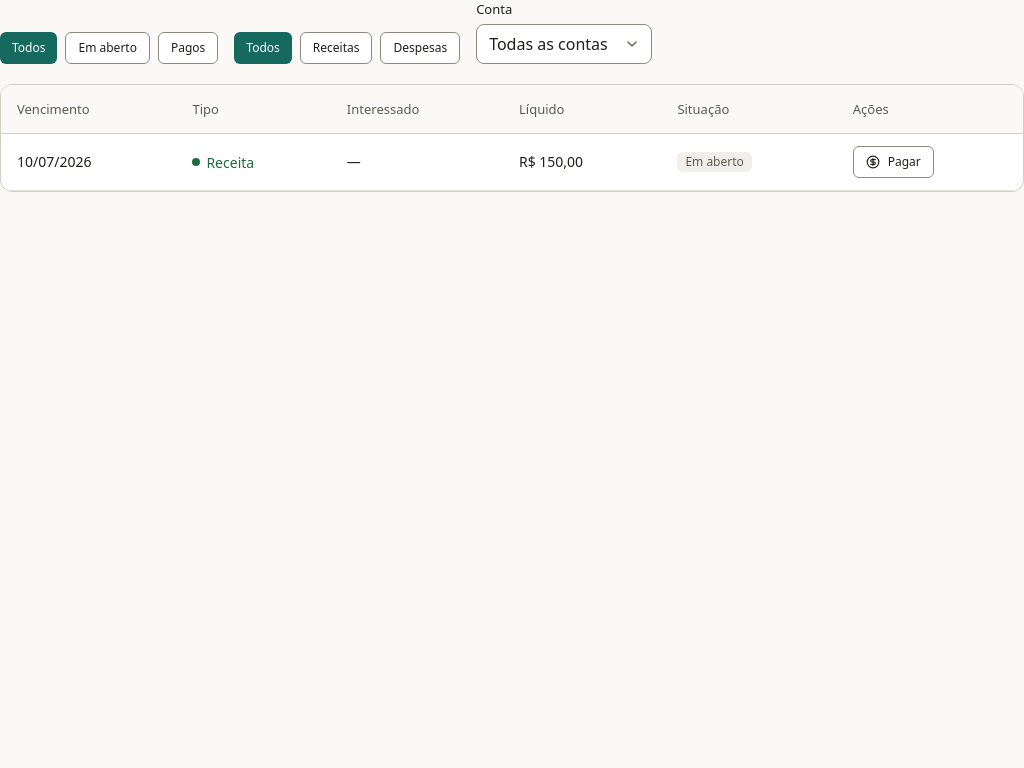
Scenario: Lançamento em período fechado — o dinheiro enviado não se reescreve › deve mostrar a recusa `ciclo_fechado` DENTRO do diálogo de baixa
Click the button "Pagar". click: coordinates (893, 162)
box: [853,146,934,178]
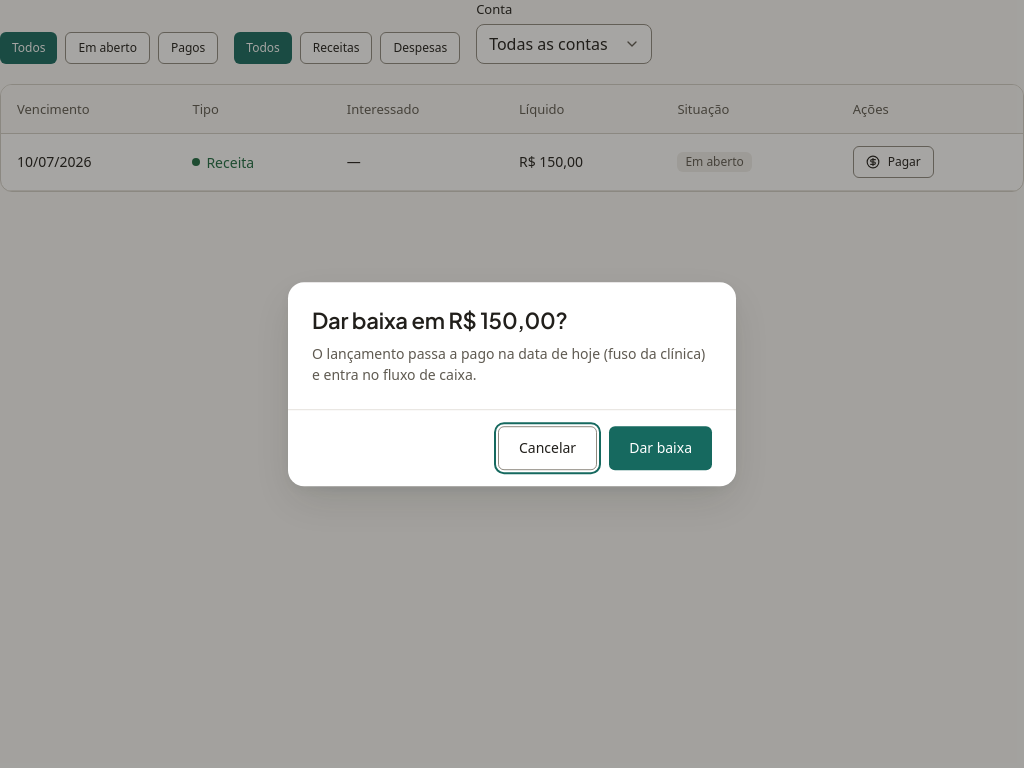
Click the button "Dar baixa". click: coordinates (661, 448)
box: [609,426,712,470]
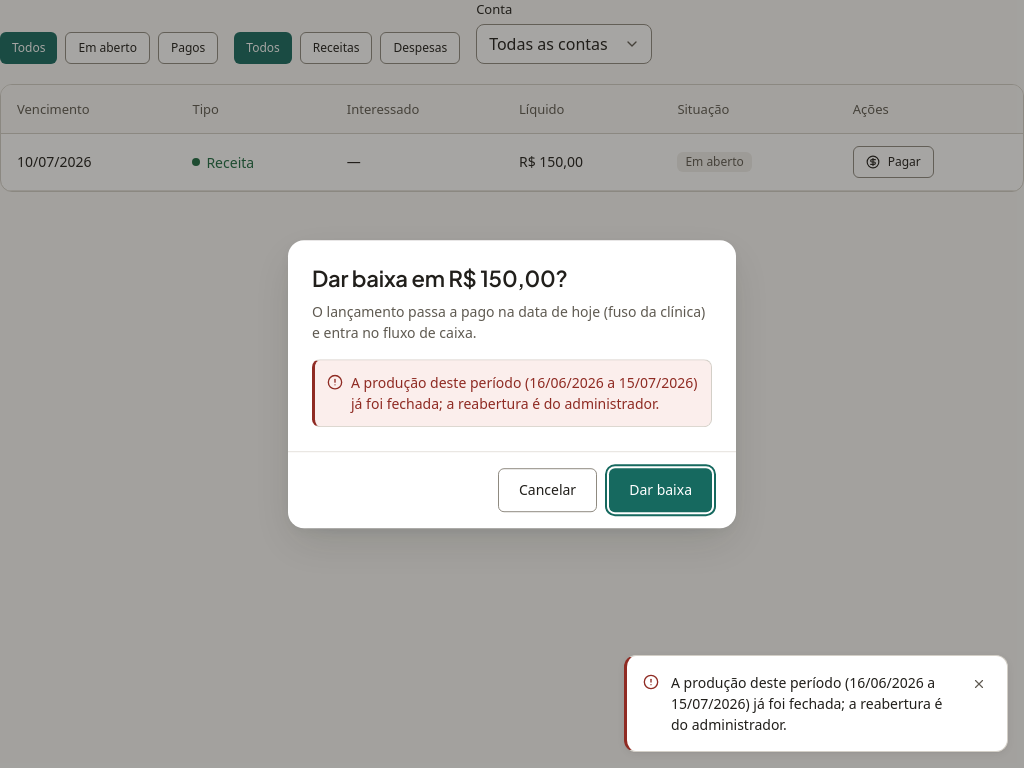
expect the text "já foi fechada" below "Dar baixa em R$ 150,00?" is shown: met, box [351,373,698,413]
